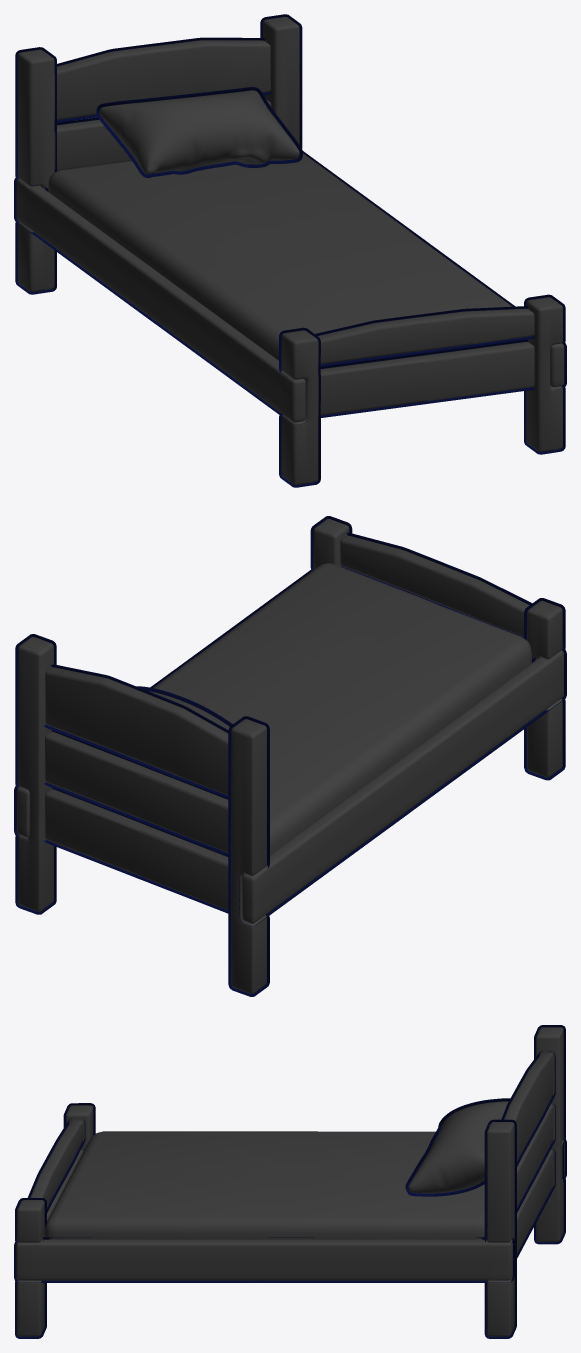
3 views of the same model, one above another, from view 1: azimuth 30°, elevation 25°; view 2: azimuth 150°, elevation 25°; view 3: azimuth 270°, elevation 25° (orthographic). The views are drawn at different scales.
Parts seen in each view (by area): view 1: Bed Frame, Matress, Basic Pillow.001; view 2: Bed Frame, Matress, Basic Pillow.001; view 3: Bed Frame, Matress, Basic Pillow.001.
Part boxes in pixels (x1,y1,x2,y2): Bed Frame: (14, 14, 566, 487); Matress: (48, 153, 511, 360); Basic Pillow.001: (96, 87, 302, 177); Bed Frame: (14, 516, 566, 996); Matress: (153, 563, 531, 854); Basic Pillow.001: (136, 686, 232, 729); Bed Frame: (14, 1025, 566, 1338); Matress: (45, 1131, 484, 1239); Basic Pillow.001: (405, 1098, 510, 1196).
Size of the model in its own units: 1.09 by 0.9974 by 2.37.
